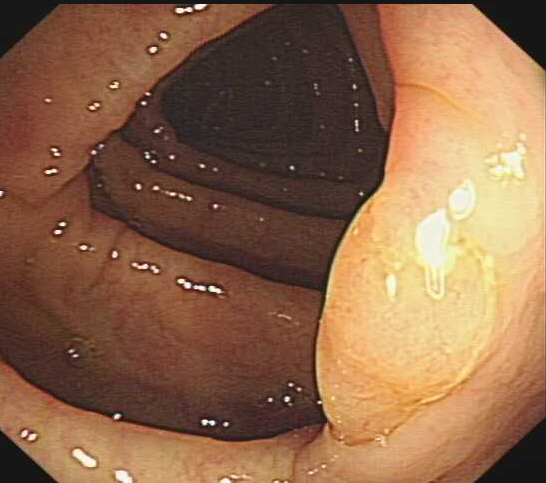others: (310, 182, 498, 444)
